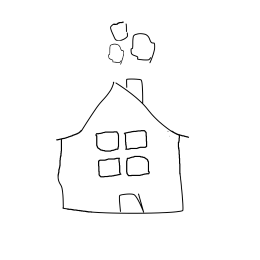door: (112, 189, 150, 219)
open_window: (93, 129, 123, 154), (95, 156, 124, 181), (124, 155, 153, 179), (123, 129, 150, 152)
single_line_roof: (51, 79, 201, 140)
smoking_chimney: (103, 17, 159, 103)
wall: (57, 129, 191, 218)
